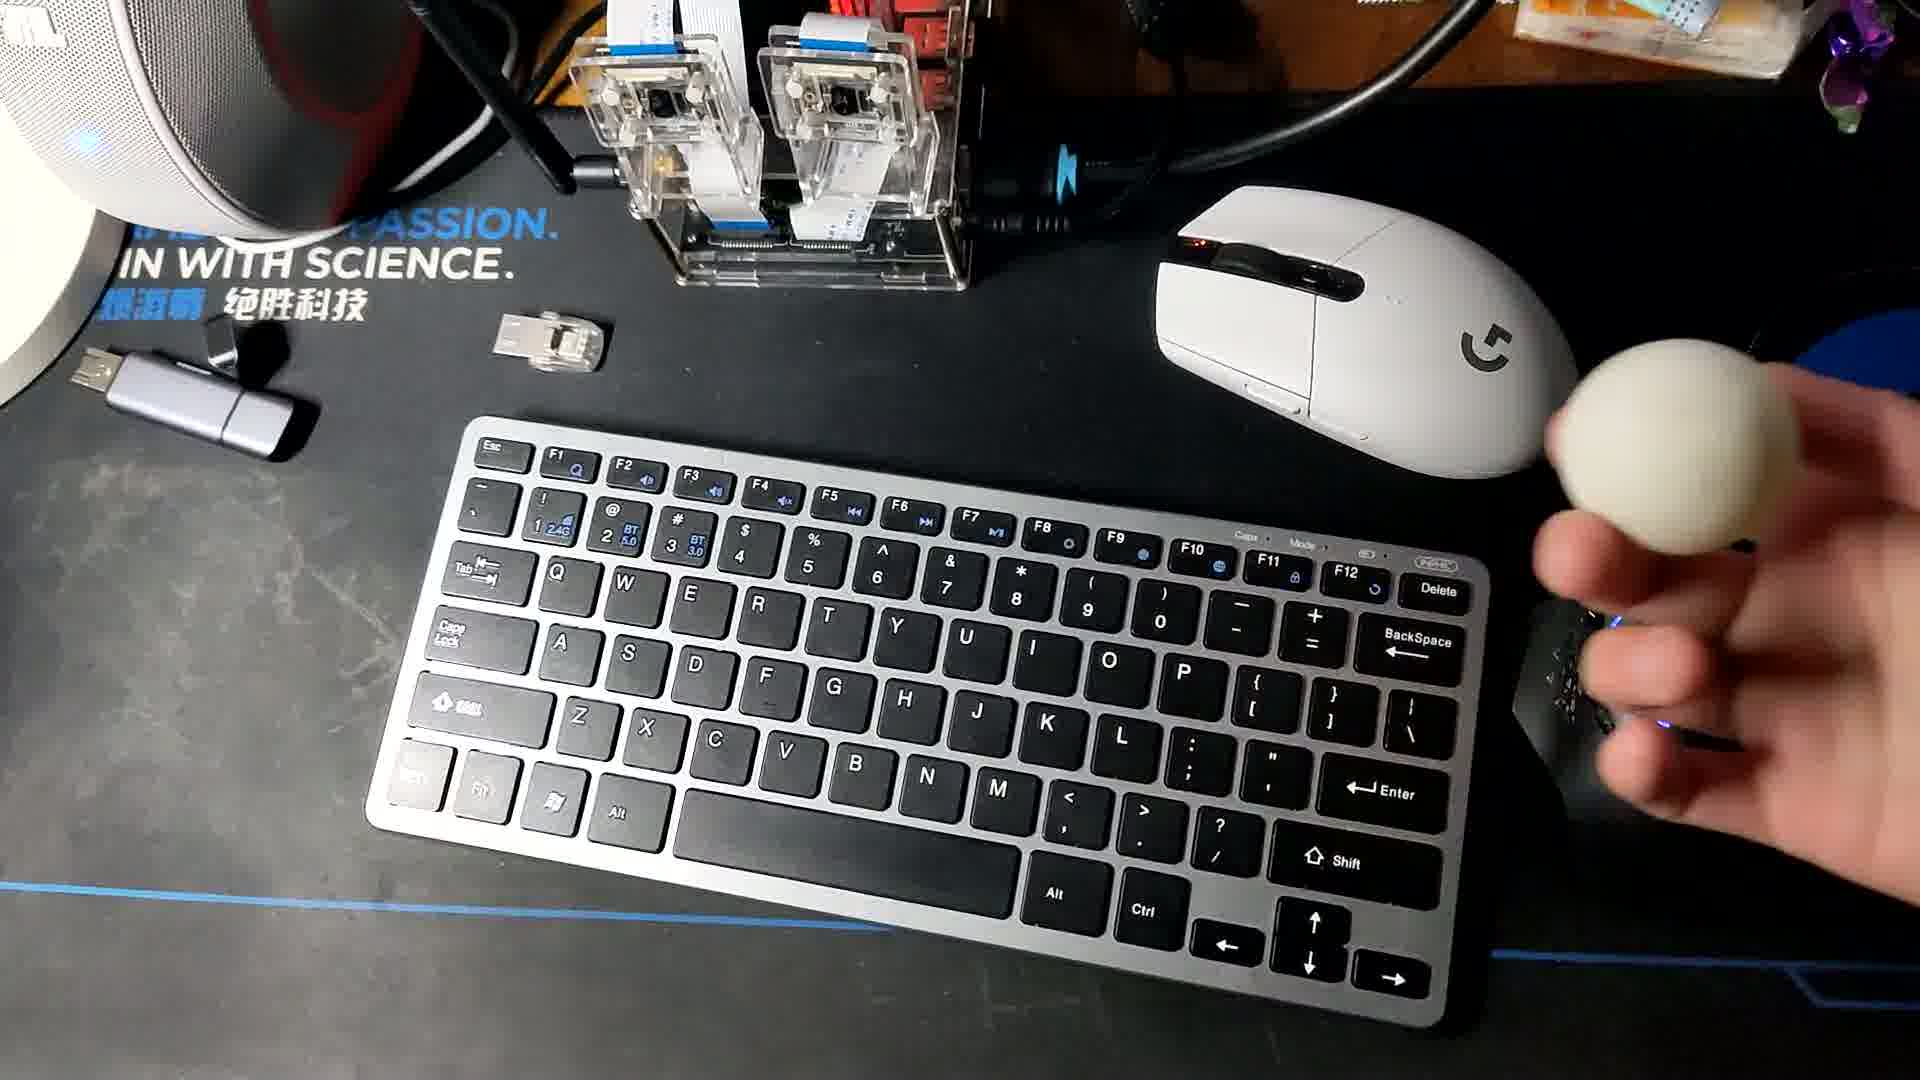Ball: (1555, 342, 1800, 553)
